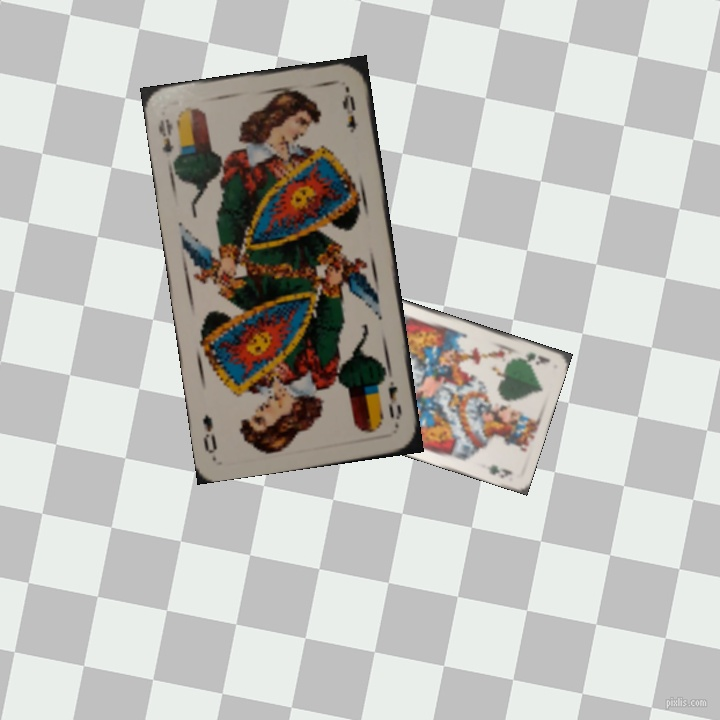EO: (384, 377, 404, 423), (154, 114, 176, 155)
GK: (514, 349, 553, 367)
